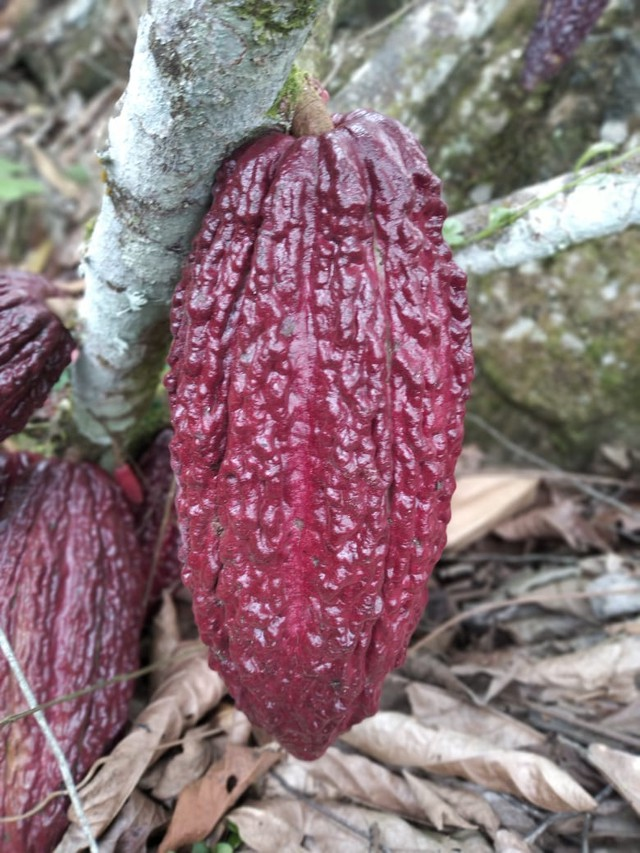Health: (160, 101, 480, 763)
